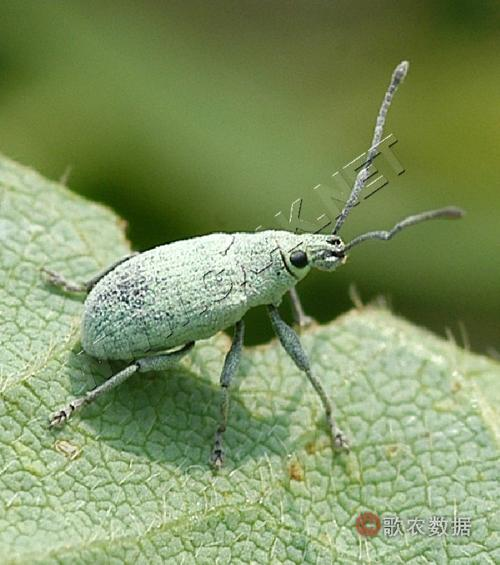Curculionidae: (46, 58, 465, 474)
